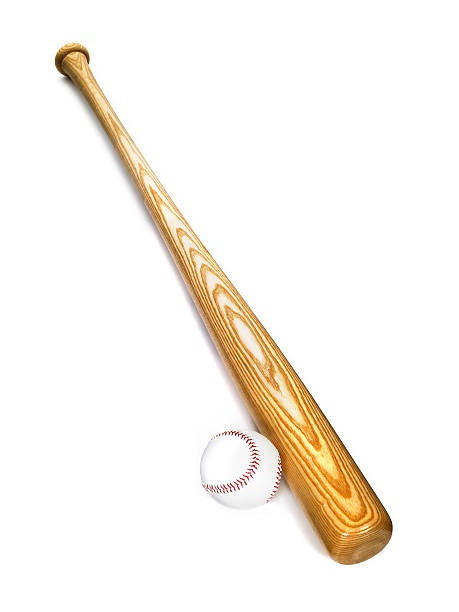bita: (51, 43, 381, 554)
